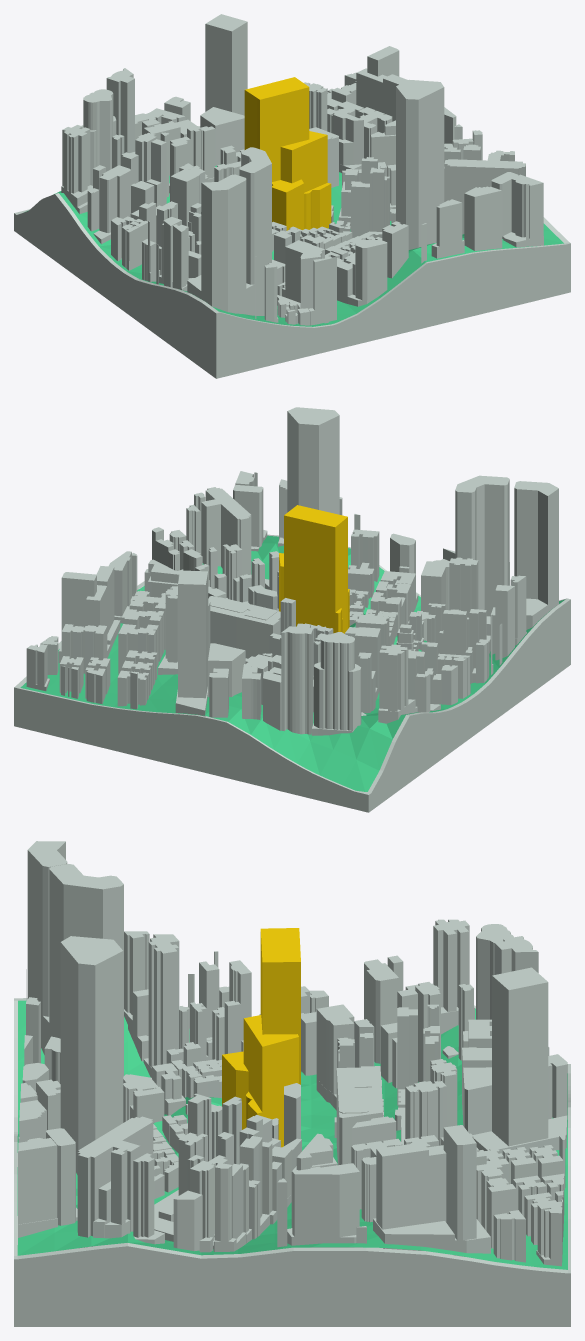
The model's file is 白色加黃地面深綠.glb.
3 views of the same model, one above another, from view 1: azimuth 30°, elevation 25°; view 2: azimuth 150°, elevation 25°; view 3: azimuth 270°, elevation 25° (orthographic). The views are drawn at different scales.
Parts seen in each view (by area): view 1: Model, Group680, Group519, Group304, Group395, Group43, Group215, Group679, Group357, Group154, Group224, Group25 (+44 smaller); view 2: Model, Group679, Group680, Group395, Group215, Group519, Group304, Group43, Group637, Group357, Group172, Group82 (+44 smaller); view 3: Group680, Group519, Group679, Model, Group43, Group215, Group45, Group357, Group395, Group196, Group304, Group224 (+66 smaller).
Part boxes in pixels (left/top/right/bottom): Model: left=14, top=208, right=570, bottom=378; Group680: left=15, top=193, right=568, bottom=372; Group519: left=396, top=79, right=444, bottom=249; Group304: left=201, top=174, right=246, bottom=314; Group395: left=244, top=77, right=309, bottom=181; Group43: left=205, top=14, right=247, bottom=115; Group215: left=239, top=147, right=271, bottom=315; Group679: left=24, top=165, right=563, bottom=326; Group357: left=444, top=154, right=525, bottom=234; Group154: left=464, top=186, right=502, bottom=250; Group224: left=280, top=131, right=327, bottom=192; Group25: left=285, top=240, right=324, bottom=308; Model: left=14, top=534, right=570, bottom=812; Group679: left=20, top=535, right=564, bottom=791; Group680: left=15, top=581, right=569, bottom=795; Group395: left=284, top=505, right=347, bottom=633; Group215: left=455, top=475, right=509, bottom=616; Group519: left=287, top=407, right=339, bottom=514; Group304: left=514, top=481, right=558, bottom=612; Group43: left=178, top=570, right=208, bottom=698; Group637: left=281, top=623, right=313, bottom=734; Group357: left=201, top=487, right=251, bottom=575; Group172: left=314, top=662, right=361, bottom=730; Group82: left=208, top=596, right=280, bottom=658; Group680: left=17, top=998, right=567, bottom=1320; Group519: left=60, top=936, right=123, bottom=1174; Group679: left=17, top=1000, right=567, bottom=1269; Model: left=14, top=998, right=570, bottom=1326; Group43: left=492, top=967, right=548, bottom=1146; Group215: left=49, top=864, right=123, bottom=1076; Group45: left=292, top=1163, right=359, bottom=1247; Group357: left=77, top=1116, right=153, bottom=1248; Group395: left=260, top=928, right=300, bottom=1079; Group196: left=376, top=1142, right=428, bottom=1229; Group304: left=27, top=841, right=67, bottom=1049; Group224: left=243, top=1015, right=298, bottom=1146.
Bounding box in the file's own units: 32.52 × 18.69 × 32.11.
